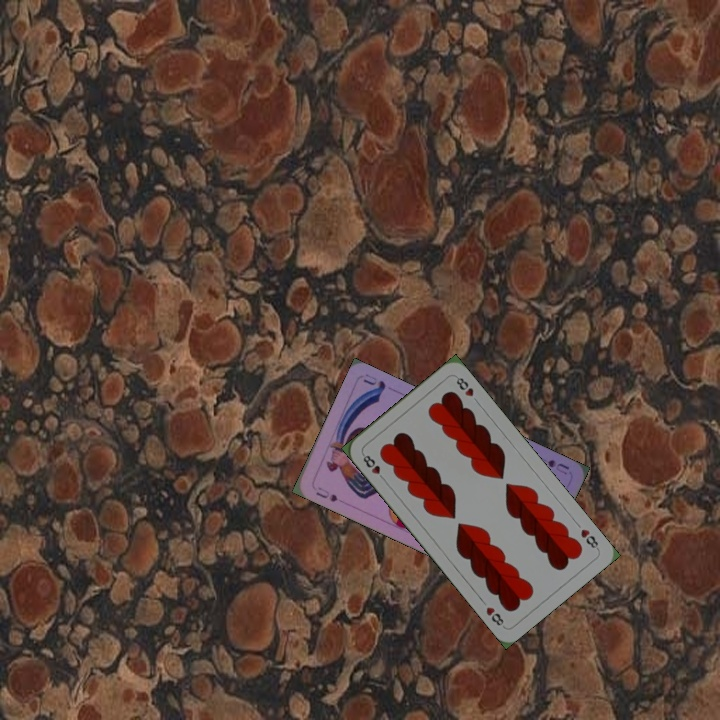H8: (358, 449, 388, 484), (576, 525, 602, 553)
SU: (543, 455, 572, 478), (312, 482, 340, 505)
